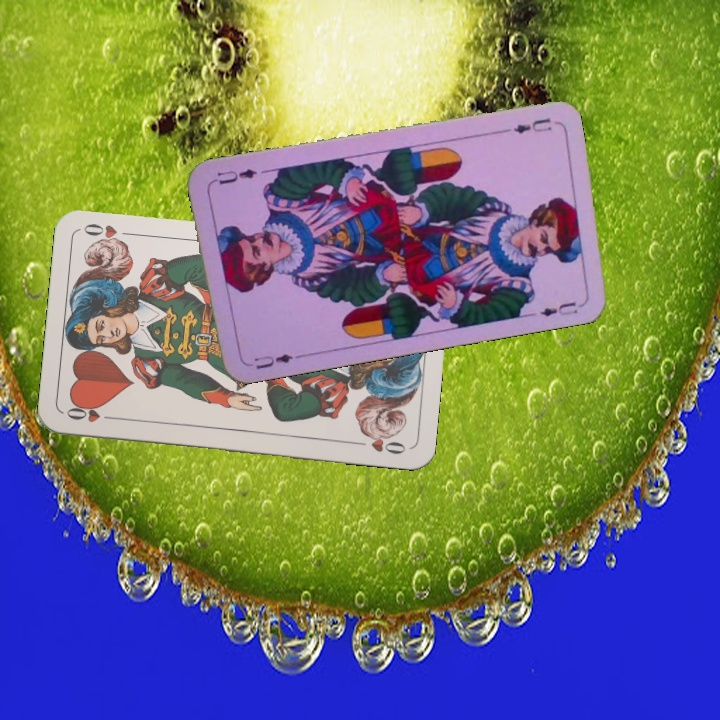EU: (250, 349, 303, 372), (509, 113, 554, 136)
HO: (62, 403, 121, 425)
